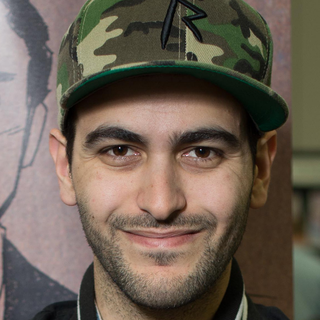eye: (93, 141, 148, 166), (175, 143, 226, 165)
